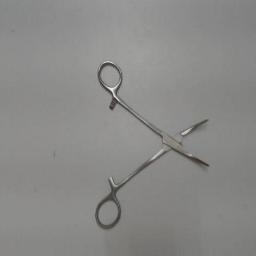Crile Artery Forceps: (92, 58, 216, 232)
